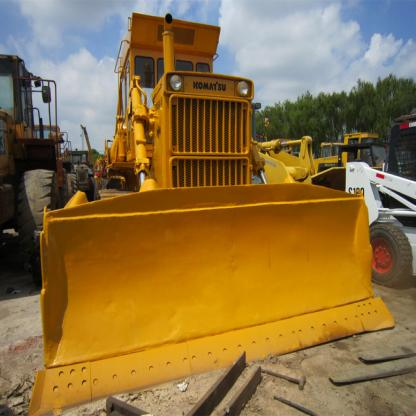bull_dozer/loader/grader: (10, 5, 400, 414)
